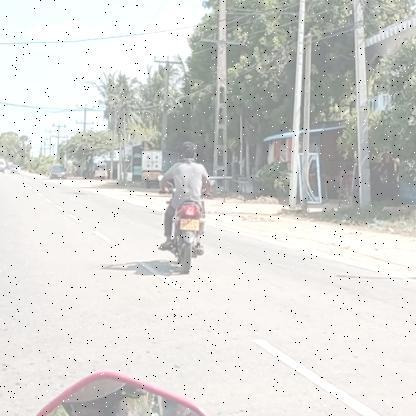motorcycle: (156, 199, 212, 278)
